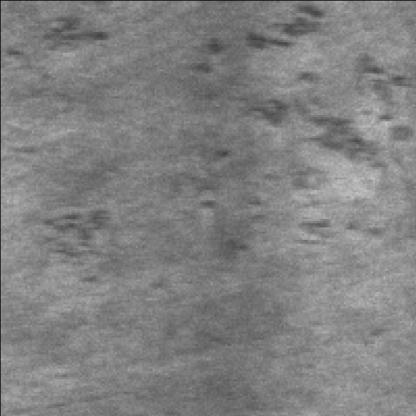rolled-in_scale: (204, 2, 414, 260), (39, 189, 117, 298), (8, 12, 125, 66)
